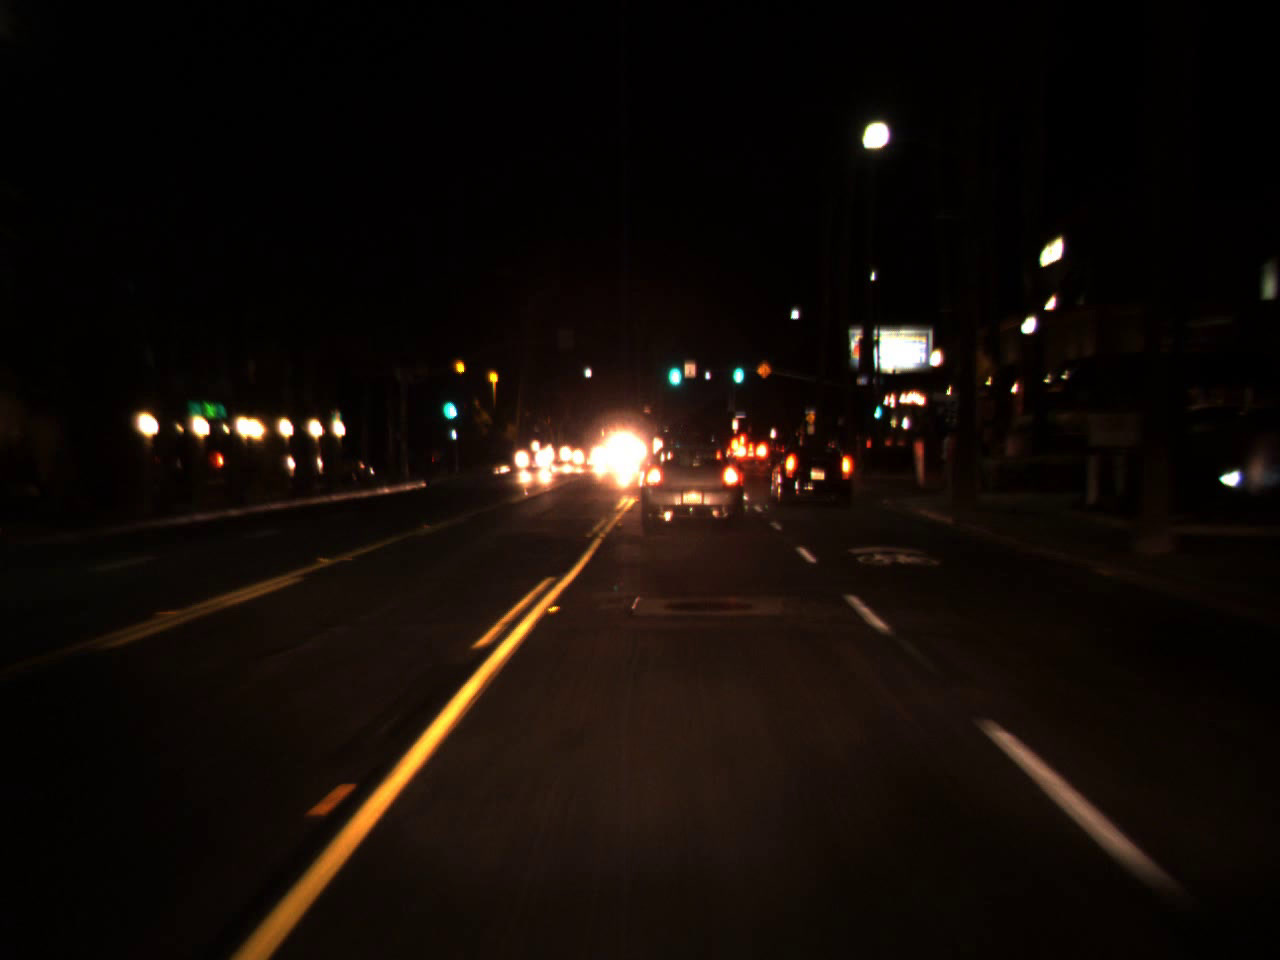go: (664, 345, 683, 393), (729, 349, 745, 388), (440, 380, 454, 425), (869, 392, 885, 422)
